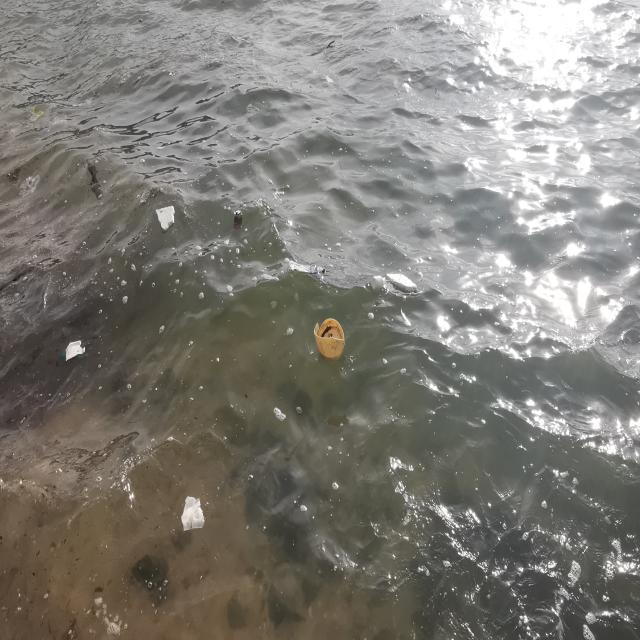can: (235, 210, 243, 230)
foam: (180, 496, 205, 531), (387, 272, 418, 292), (156, 206, 175, 231), (64, 340, 86, 361)
plastic: (290, 259, 326, 278), (370, 276, 386, 289)
plastic bottle: (314, 317, 344, 358), (18, 175, 41, 197), (25, 105, 43, 123)
unknow: (88, 163, 103, 201), (138, 188, 150, 205)
